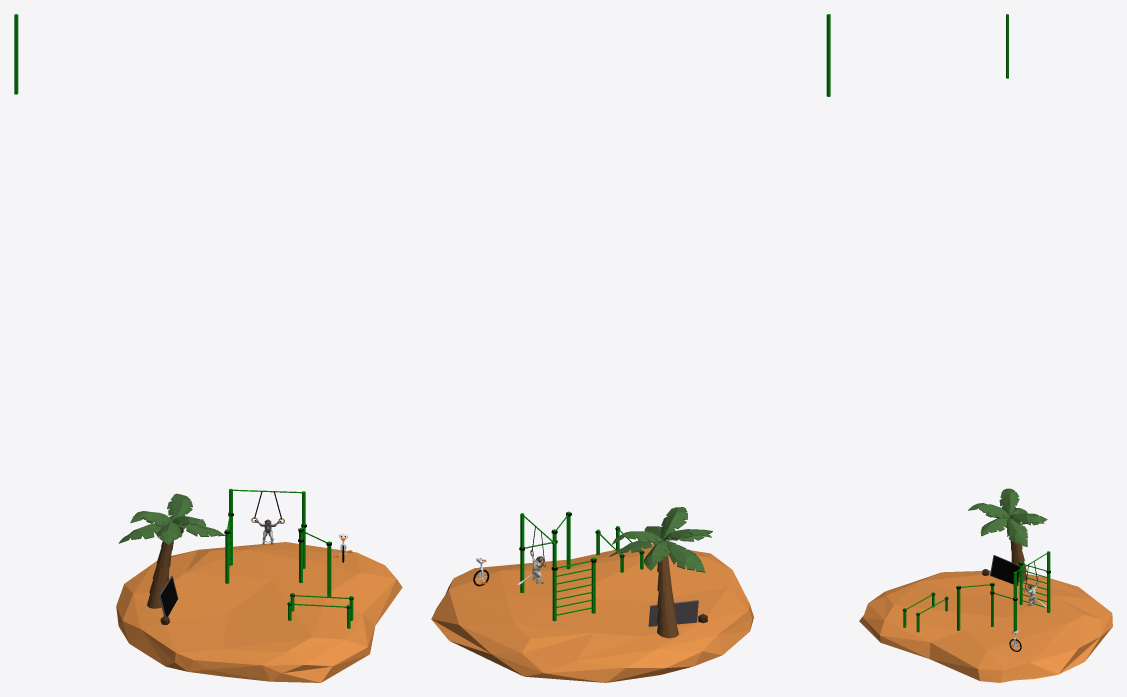
Rendered from myWorkoutRoom.glb.
3 views of the same model, side by side, from view 1: azimuth 30°, elevation 25°; view 2: azimuth 150°, elevation 25°; view 3: azimuth 270°, elevation 25° (orthographic). The views are drawn at different scales.
Visible parts, largest first — view 1: Icosphere, Cube.001; view 2: Icosphere, Cube.001, TVFrame, Plane.002; view 3: Icosphere, Screen, Plane.
Part boxes in pixels (bbox=[...]): Icosphere: bbox=[116, 542, 402, 682]; Cube.001: bbox=[147, 539, 173, 608]; Icosphere: bbox=[431, 544, 753, 682]; Cube.001: bbox=[656, 541, 678, 638]; TVFrame: bbox=[648, 600, 698, 626]; Plane.002: bbox=[665, 541, 705, 572]; Icosphere: bbox=[859, 570, 1112, 682]; Screen: bbox=[991, 556, 1019, 584]; Plane: bbox=[1006, 517, 1027, 546].
Bounding box in the file's own units: 15.64 × 25.97 × 11.41.
36 materials, 1 textured.
